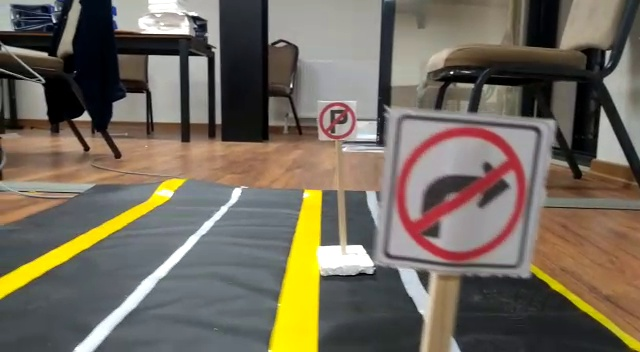park_yapilmaz: (319, 100, 358, 141)
saga_donulmez: (393, 120, 525, 266)
